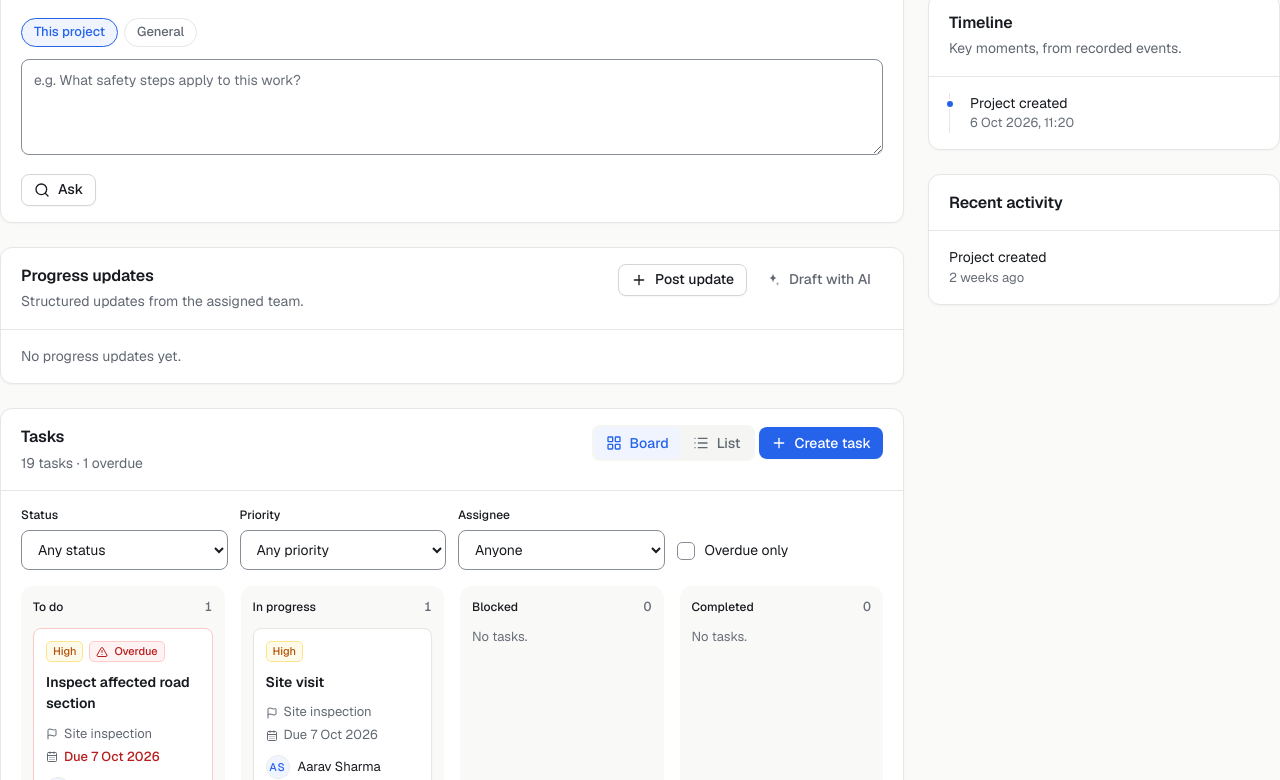
Test: ProjectWorkspace › refuses a due date before the project starts
(page scrolled)
Step 1. Click the button "Create task" → click(821, 444), box [758, 428, 883, 460]
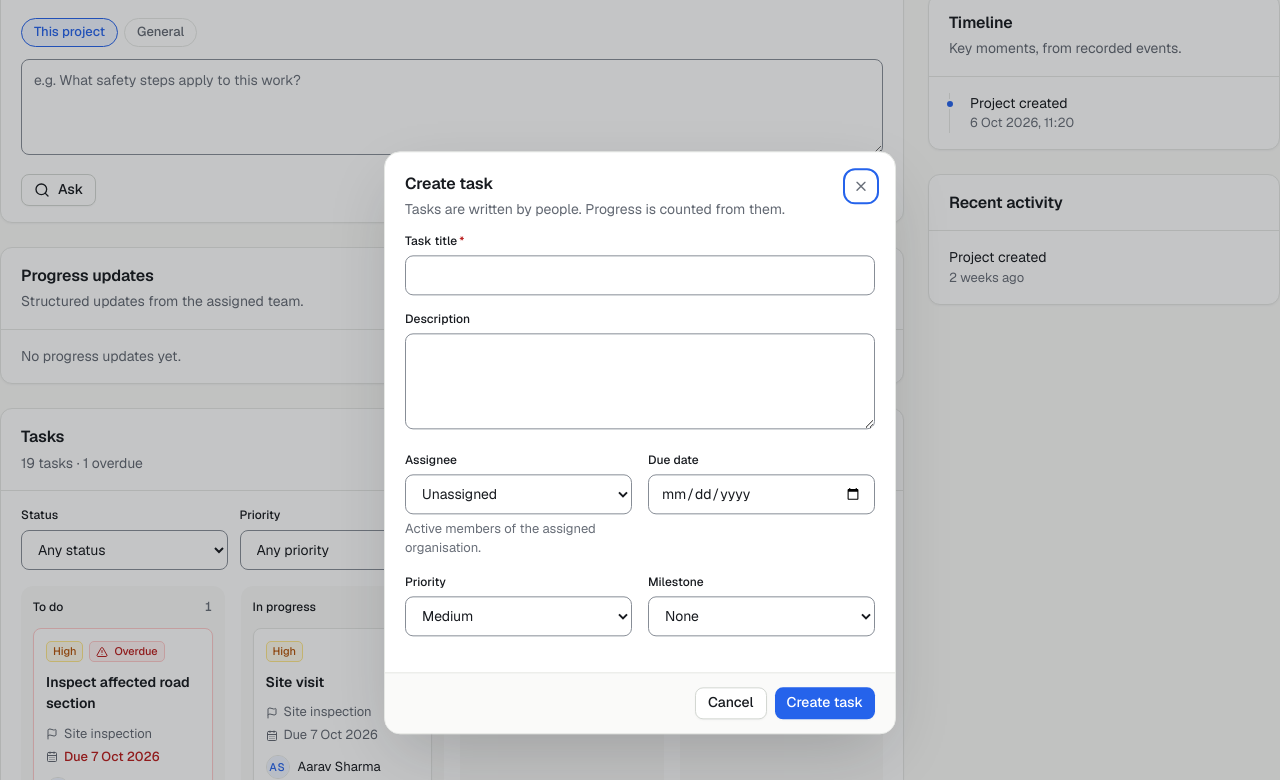
Step 2. Type "Old task" into the field labelled "Task title*" → (640, 275), box [405, 255, 875, 295]
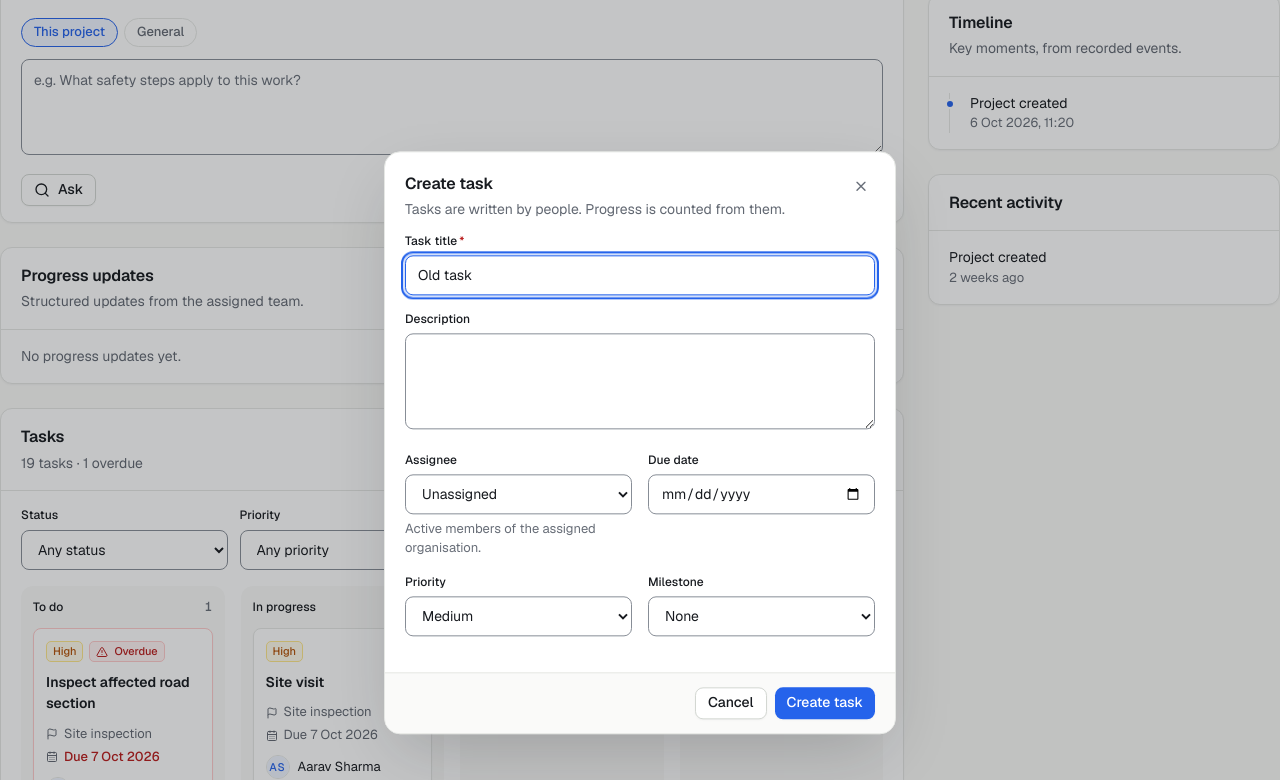
Step 3. Type "2026-10-01" into the date field labelled "Due date" → (762, 495), box [648, 475, 875, 515]
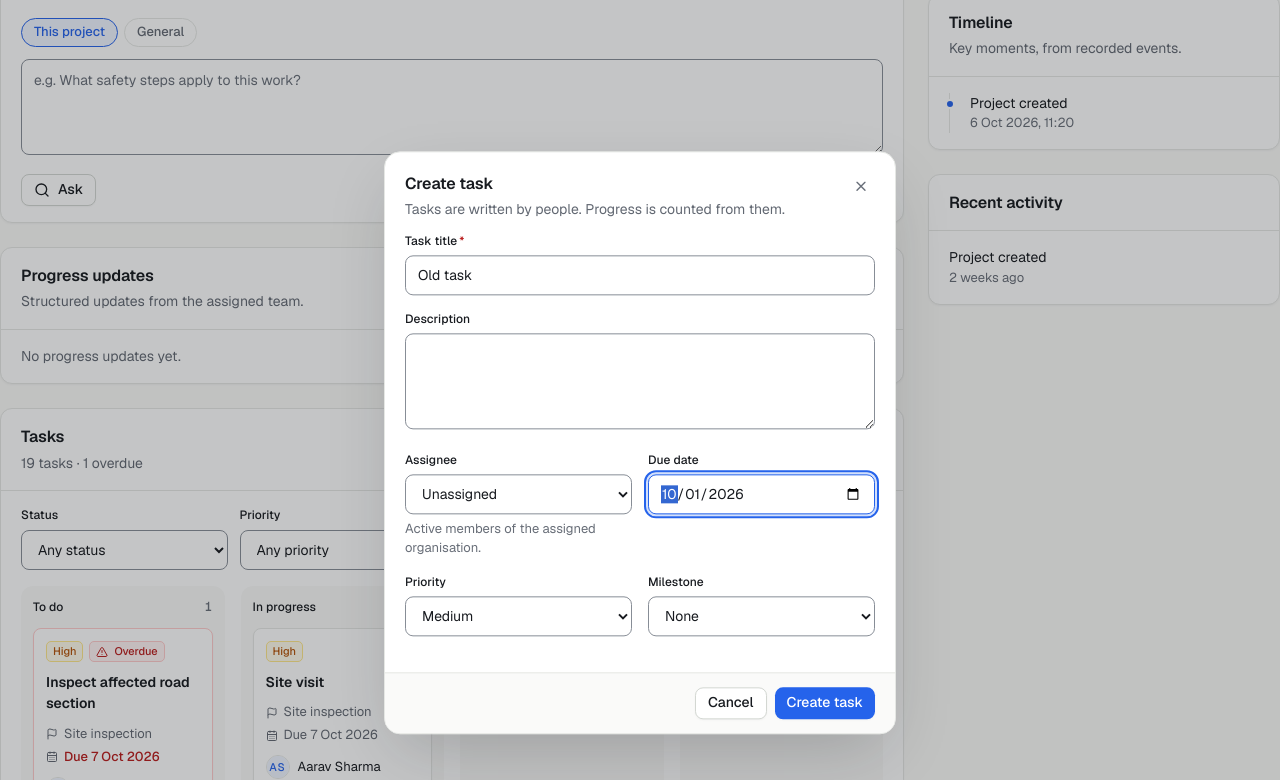
Step 4. Click the button "Create task" → click(825, 704), box [774, 688, 875, 720]
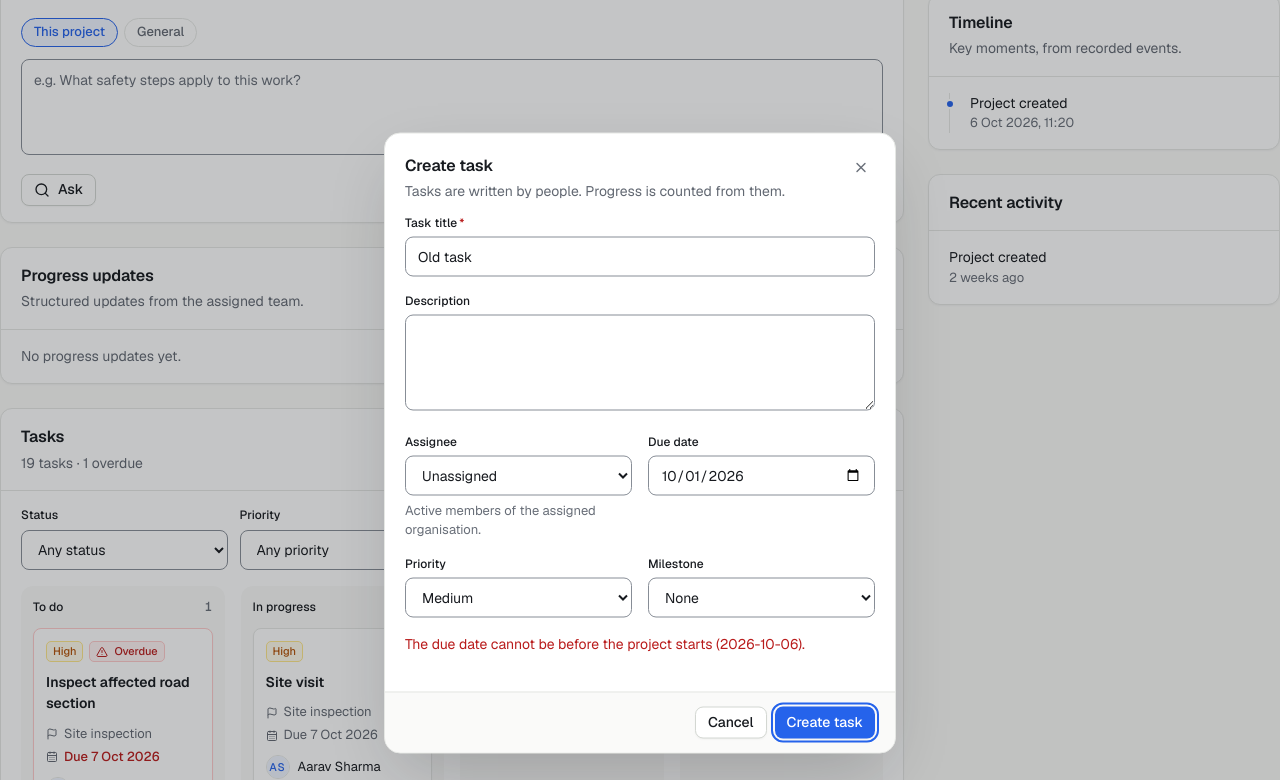
Check: the message shows "cannot be before the project starts", box [405, 635, 805, 653]
